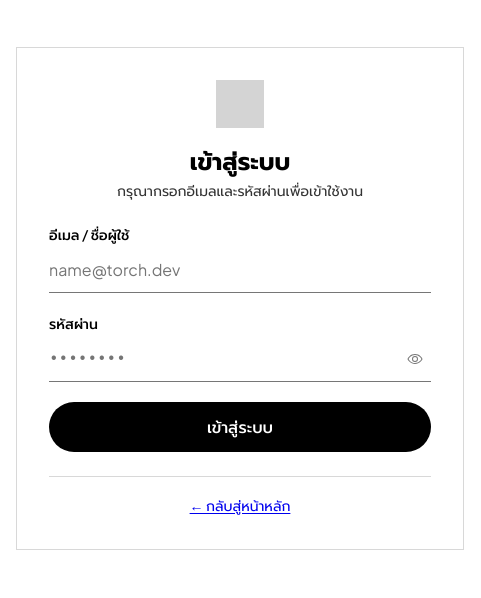
Test: LoginPage › displays error message on failed sign in
The width and height of the screenshot is (481, 598).
Type "wrong@torch.dev" into the field labelled "อีเมล / ชื่อผู้ใช้" at (240, 270), box x1=49 y1=248 x2=431 y2=292
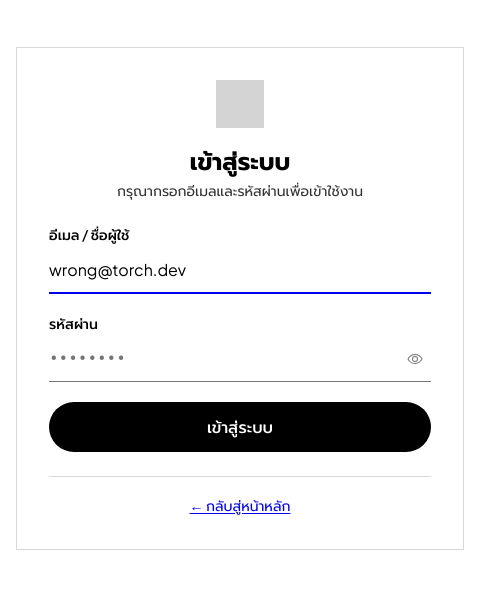
Type "wrongpass" into the password field labelled "รหัสผ่าน" at (240, 359), box x1=49 y1=336 x2=431 y2=382
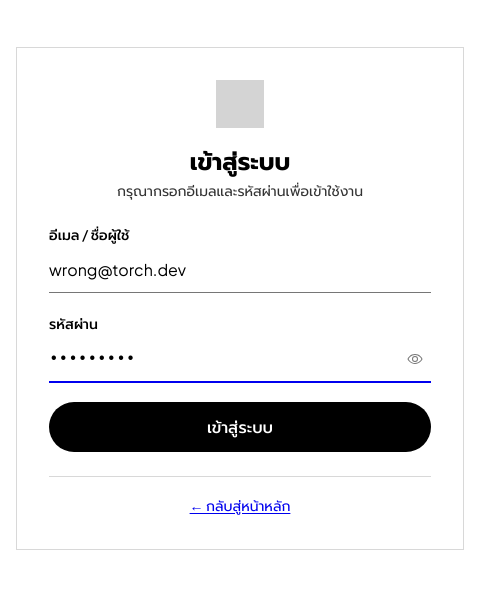
Click the button "เข้าสู่ระบบ" at (240, 426), box x1=49 y1=402 x2=431 y2=452
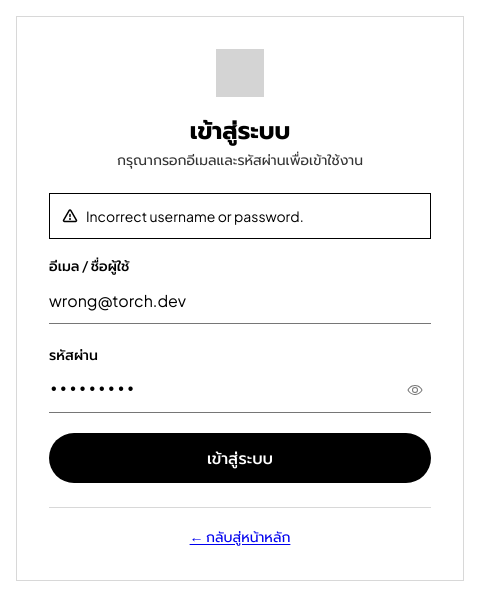
Expected: the message reads "Incorrect username or password.", x1=86 y1=206 x2=304 y2=224
